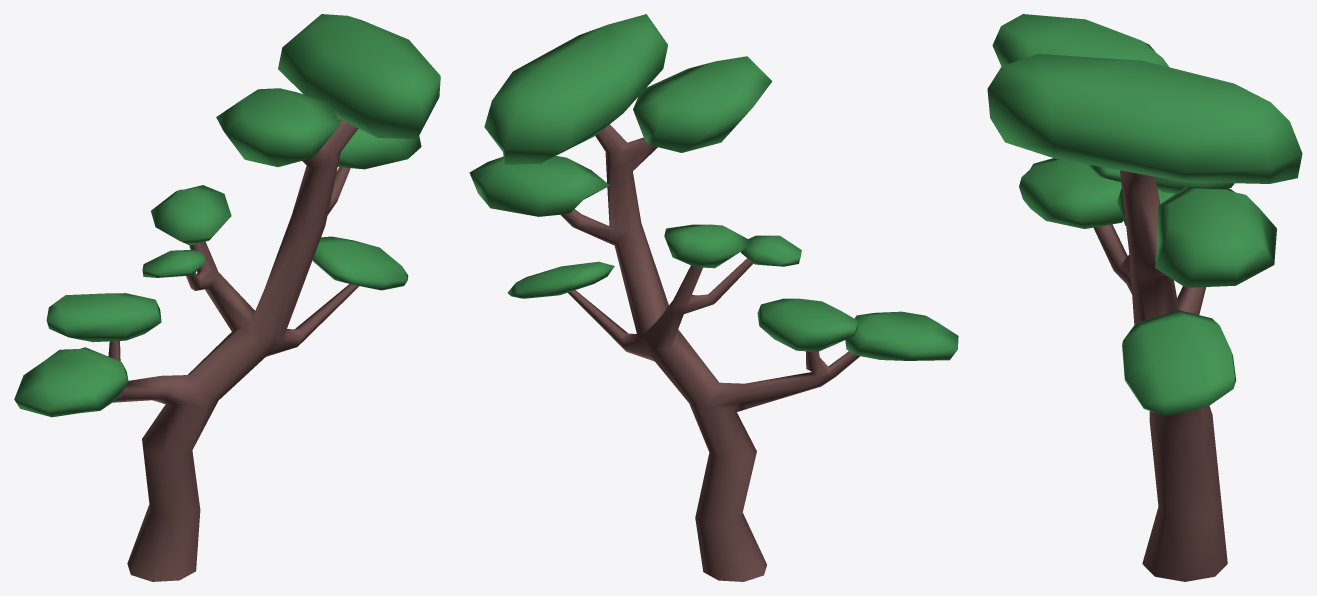
Rendered from Arvore_Japonesa_7.fbx.
3 renders of one model, left to right at view 1: azimuth 30°, elevation 25°; view 2: azimuth 150°, elevation 25°; view 3: azimuth 270°, elevation 25°, orthographic. The views are drawn at different scales.
Parts seen in each view (by area): view 1: Arvore_Japonesa_7; view 2: Arvore_Japonesa_7; view 3: Arvore_Japonesa_7.
Boxes of the visible parts, x1,y1,x2,y2 form: Arvore_Japonesa_7: (14, 14, 440, 581); Arvore_Japonesa_7: (469, 14, 958, 581); Arvore_Japonesa_7: (987, 14, 1302, 581).
Bounding box in the file's own units: 1.72 × 3.45 × 3.6.
